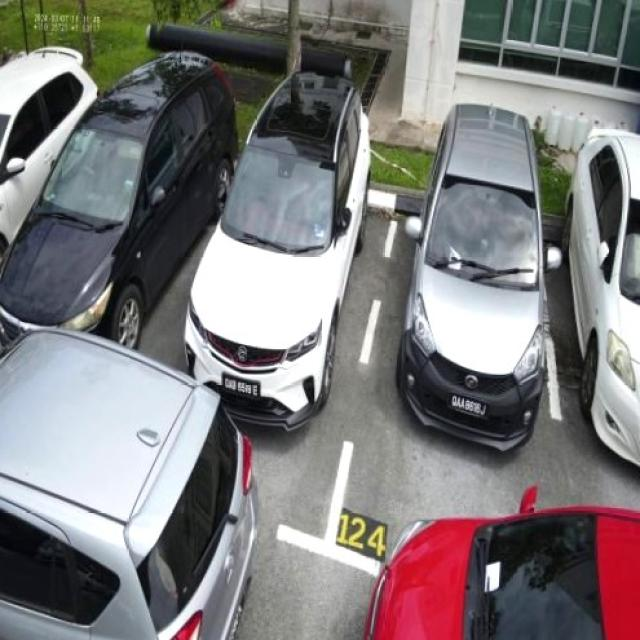Legalparking: (0, 52, 234, 347), (184, 72, 367, 429), (397, 105, 561, 449), (562, 129, 639, 464)
illegalparking: (0, 331, 255, 639), (389, 496, 640, 640)
